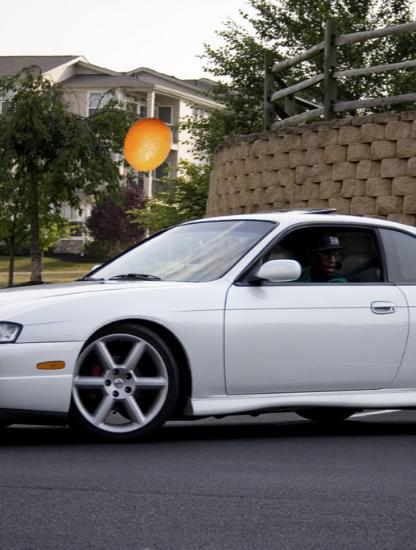Lemon: (118, 117, 176, 175)
